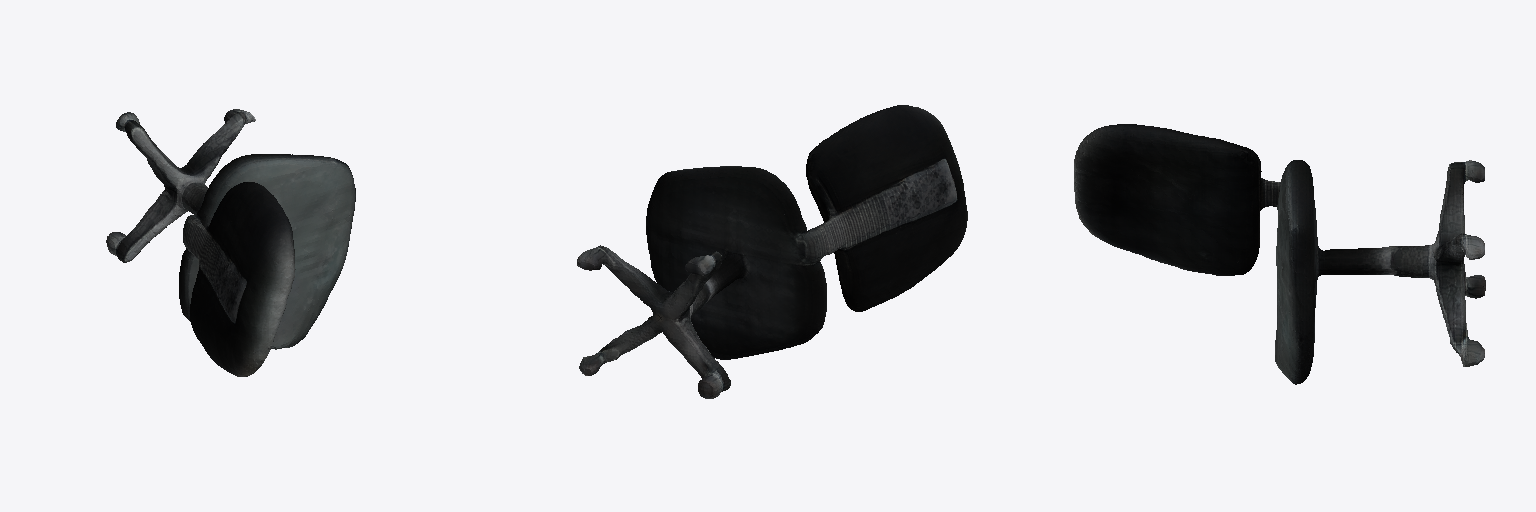
3 renders of one model, left to right at view 1: azimuth 30°, elevation 25°; view 2: azimuth 150°, elevation 25°; view 3: azimuth 270°, elevation 25°, orthographic.
Bounding box in the file's own units: 1.2 × 1.13 × 1.97.
1 materials, 1 textured.